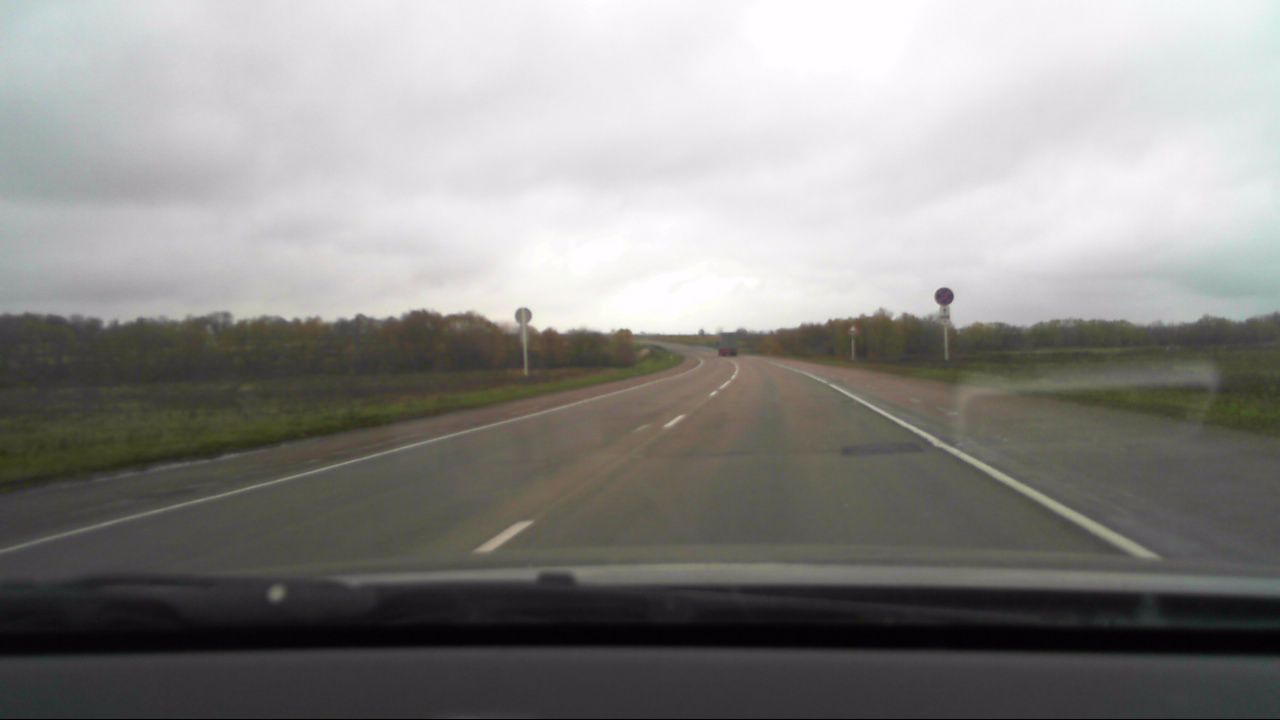No Parking: (932, 287, 954, 306)
